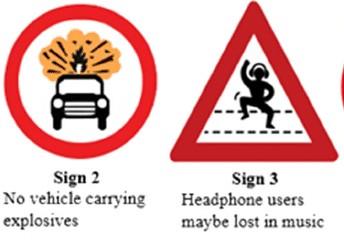Traffic signal: (170, 1, 339, 165), (4, 3, 158, 156)
